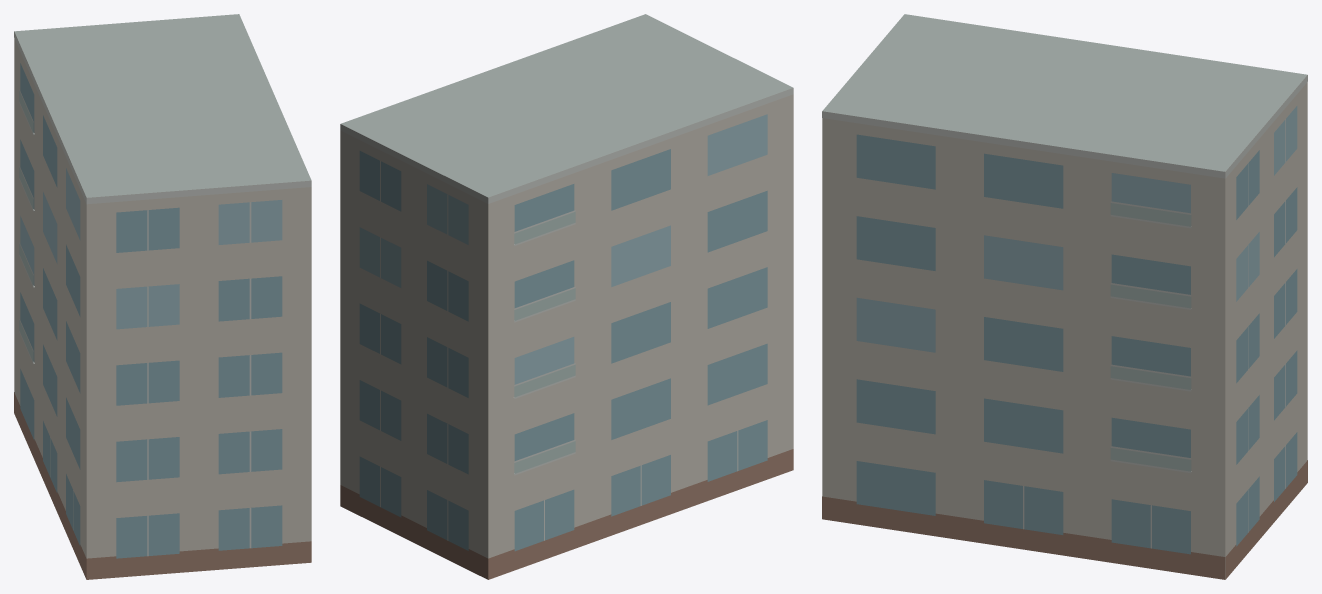
File: survey-upis-32884960.glb
3 renders of one model, left to right at view 1: azimuth 30°, elevation 25°; view 2: azimuth 150°, elevation 25°; view 3: azimuth 270°, elevation 25°, orthographic. The views are drawn at different scales.
Parts seen in each view (by area): view 1: survey-upis-32884960.tmp; view 2: survey-upis-32884960.tmp; view 3: survey-upis-32884960.tmp.
Part boxes in pixels (x1,y1,x2,y2): survey-upis-32884960.tmp: [14, 14, 311, 579]; survey-upis-32884960.tmp: [340, 14, 793, 579]; survey-upis-32884960.tmp: [822, 14, 1307, 579].
Size of the model in its own units: 12.08 by 14.55 by 15.71.
